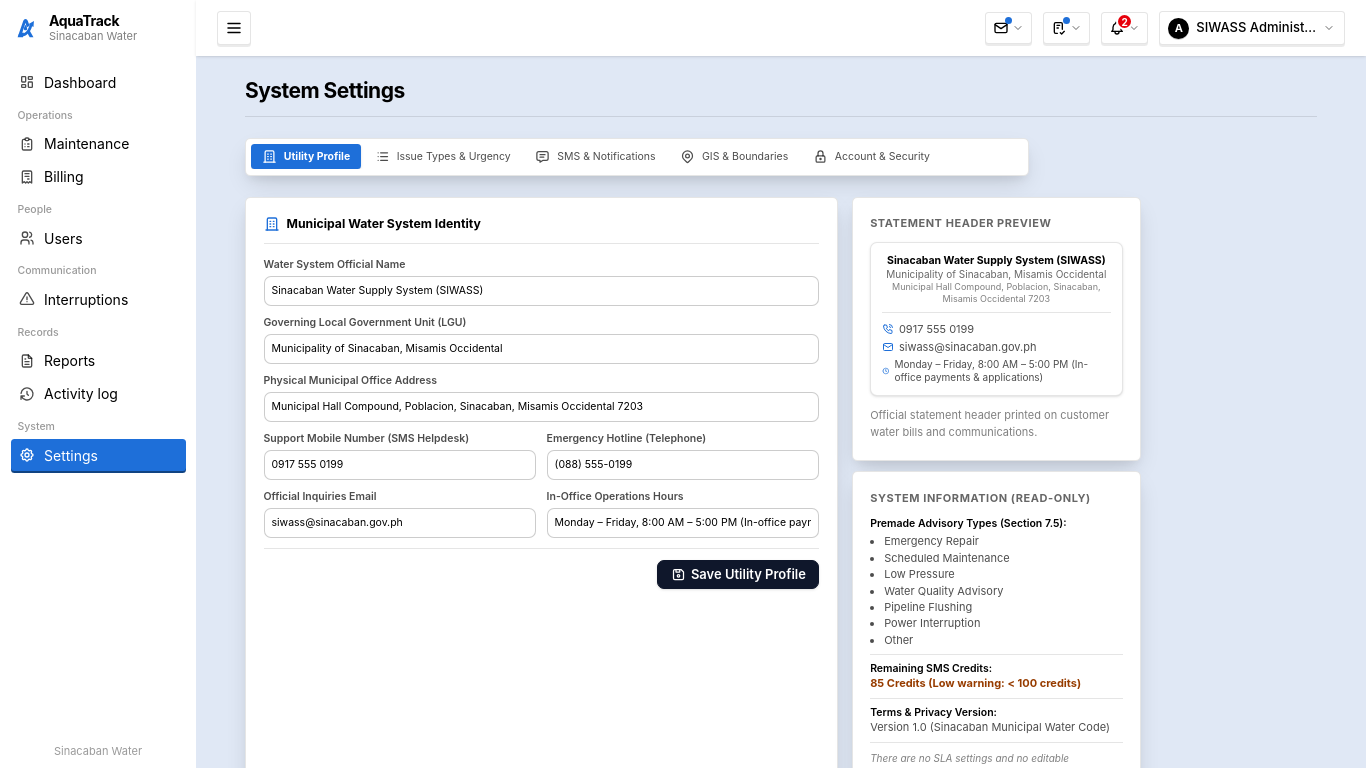
Test case: AdminSettingsView (Workflow Parameters & System Configuration) › switches to Issue Types & Urgency tab and displays Section 5.2 derivation engine
The width and height of the screenshot is (1366, 768).
Click the button "Issue Types & Urgency".
click(443, 157)  # box [364,144,521,169]
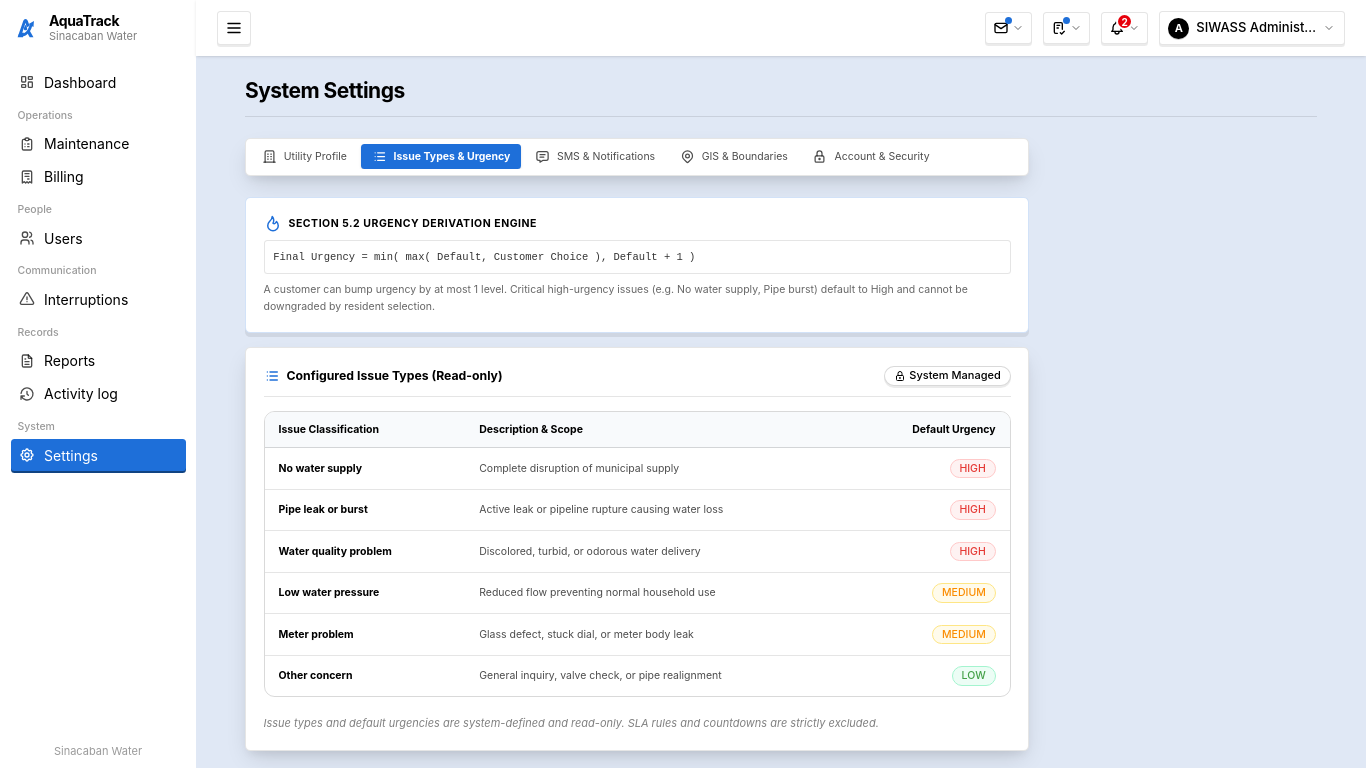
Check: the heading "Section 5.2 Urgency Derivation Engine" is shown, box [288,217,537,231]
Check: the text "Configured Issue Types (Read-only)" is shown, box [286,367,503,384]
Check: the text "No water supply" is shown, box [264,282,968,313]
